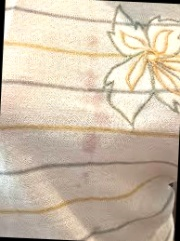wine: (81, 95, 114, 128), (79, 58, 106, 87), (80, 132, 104, 156), (76, 167, 98, 189), (86, 32, 106, 55)
